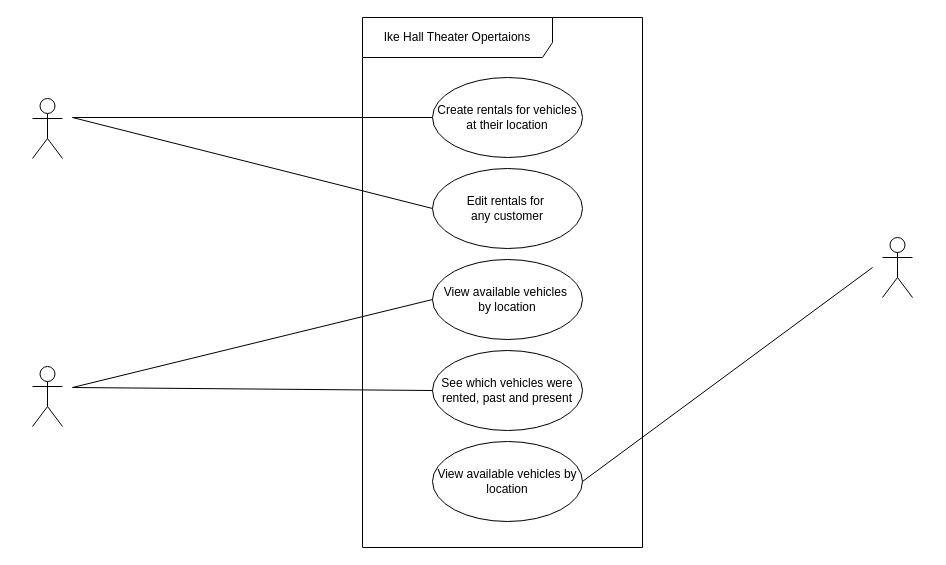
The diagram is 946 pixels wide and 565 high, and some of its shapes have lost their labels. The centre of each missing label's shape, as x and y in pixels:
Anonymous: pixel 897 267
Car Rental Employee: pixel 47 128
Customer: pixel 47 396
